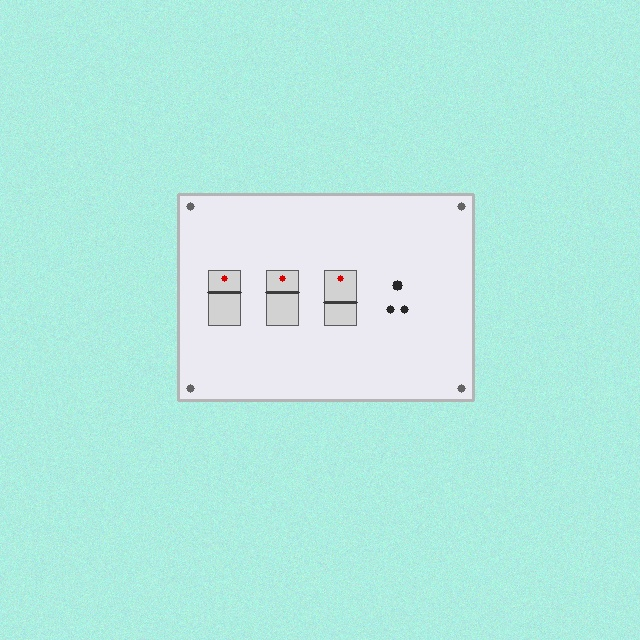switchboard: (178, 194, 473, 400)
